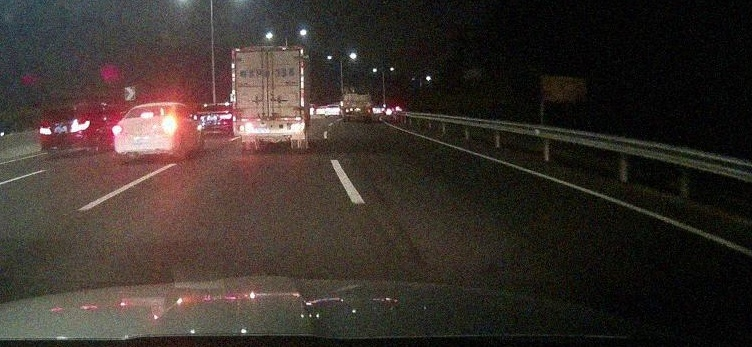L_light: (40, 127, 51, 136), (240, 124, 253, 131), (114, 125, 123, 134)
R_light: (71, 120, 89, 132), (162, 121, 174, 130), (288, 123, 301, 130)
T_light: (141, 112, 153, 117), (262, 51, 276, 55), (62, 110, 74, 113)
night-no: (232, 47, 305, 153), (39, 107, 90, 154)
night-right: (114, 103, 176, 164)
